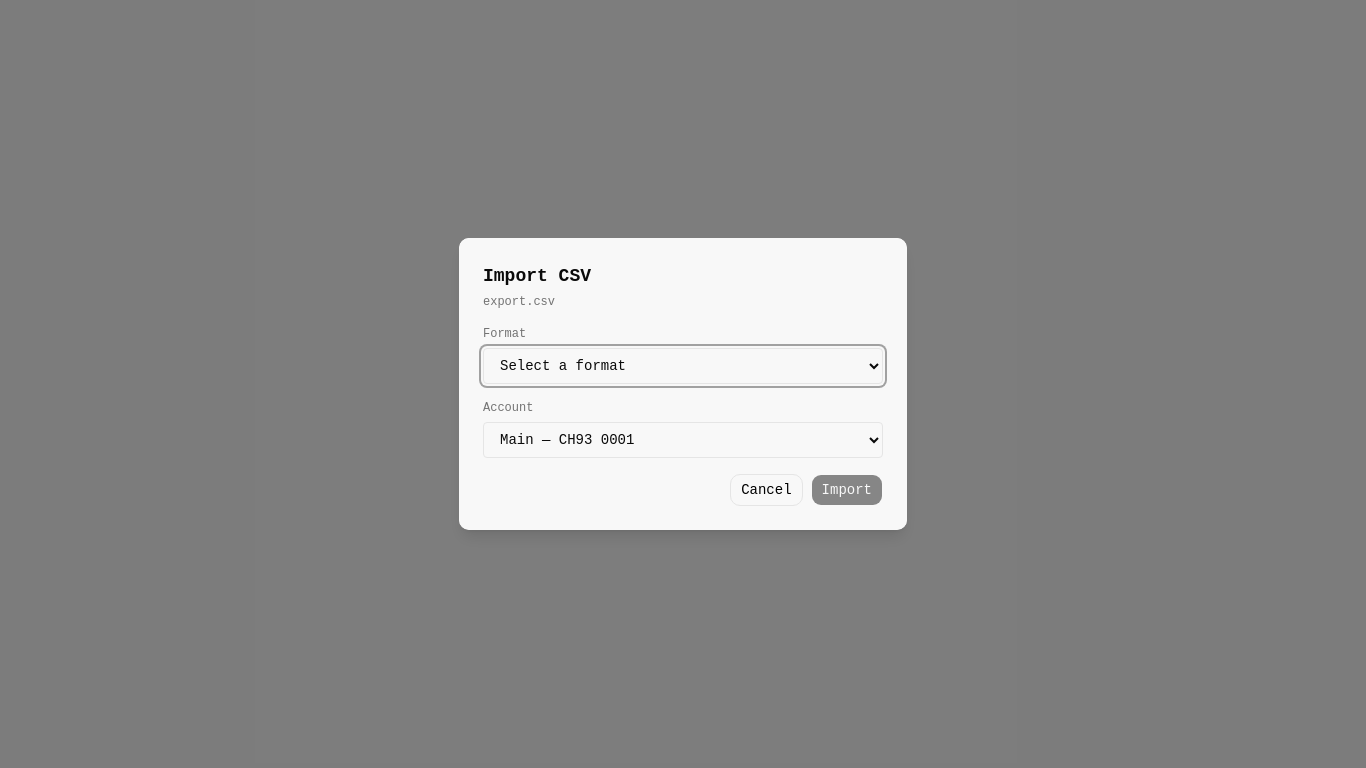
Test: custom mapping › previews a negative amount for a debit/credit split mapping
Select "Custom mapping" in the dropdown named "Format" at (683, 366), box [483,348,883,384]
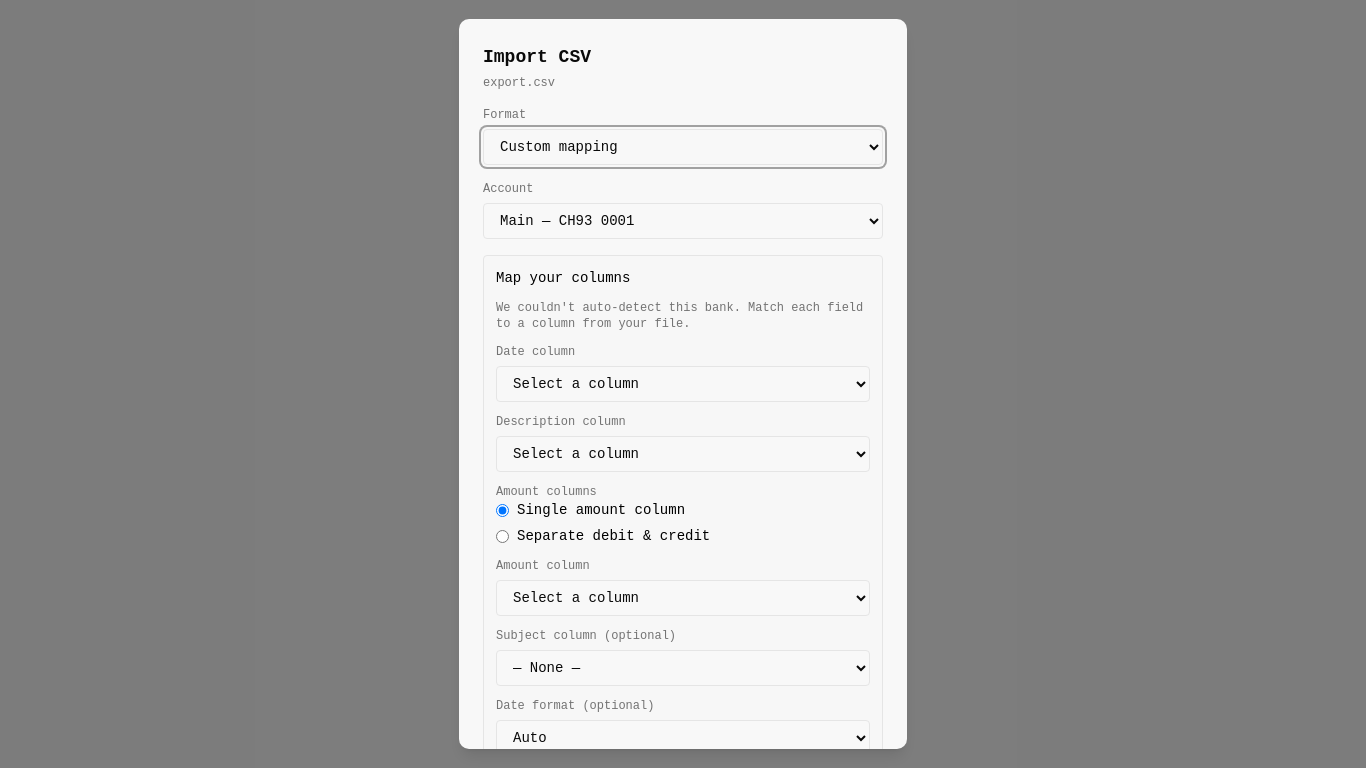
Click the radio button labelled "Separate debit & credit" at (502, 536), box [496,530,509,542]
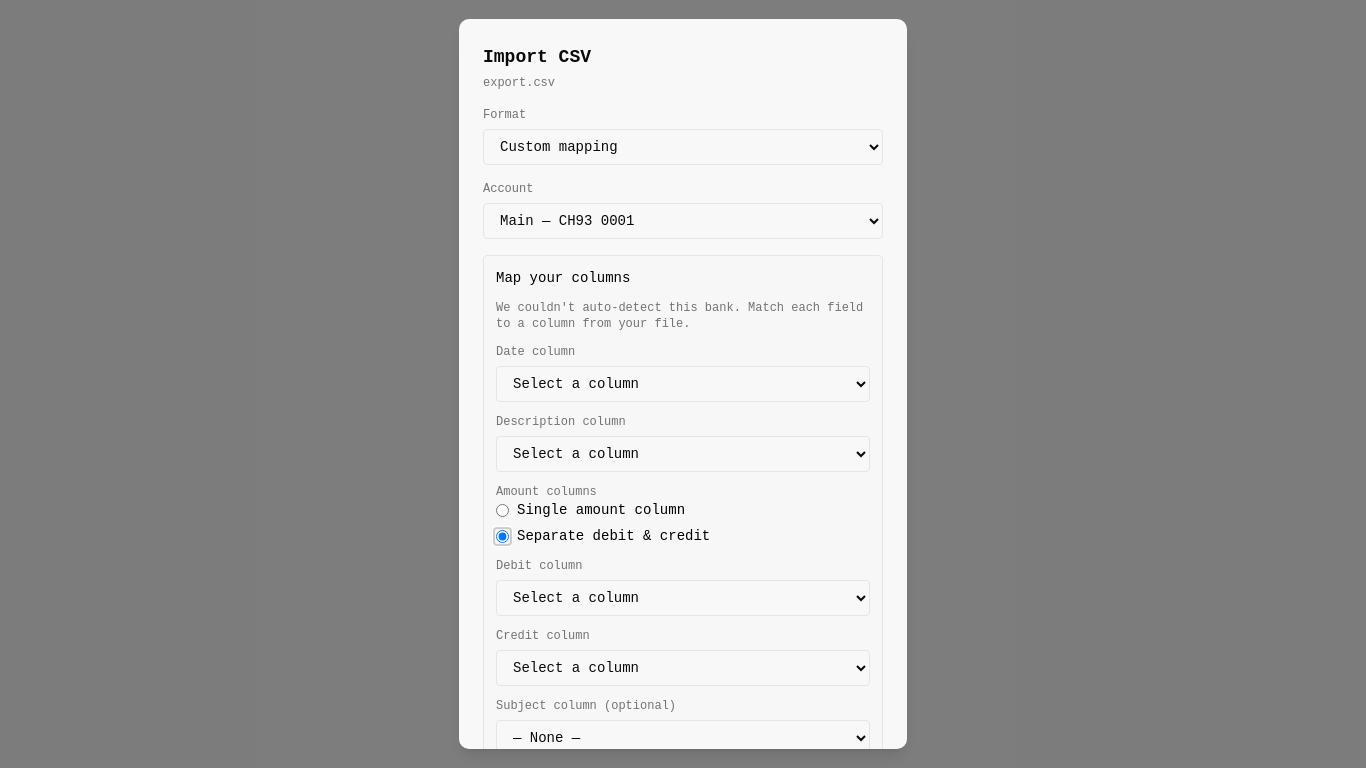
Select "Datum" in the dropdown named "Date column" at (683, 384), box [496,366,870,402]
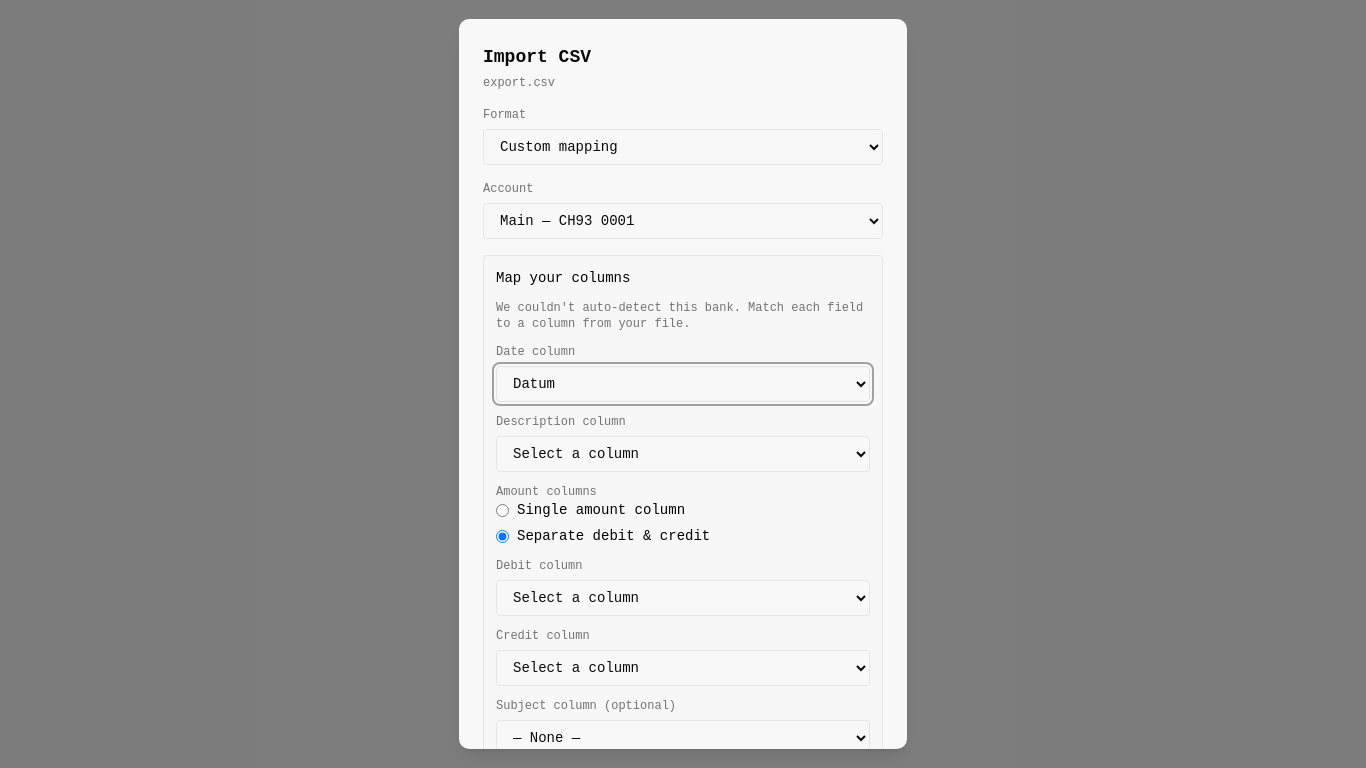
Select "Text" in the dropdown named "Description column" at (683, 454), box [496,436,870,472]
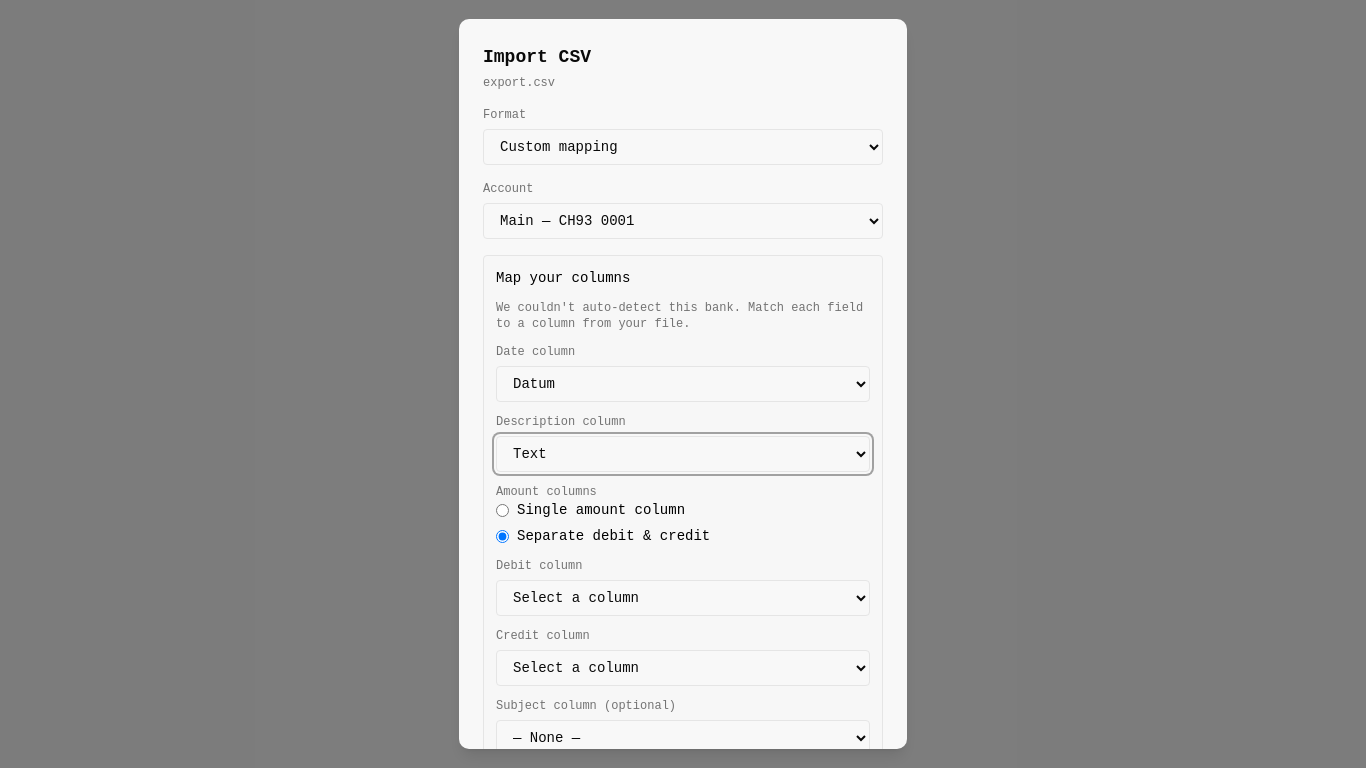
Select "Soll" in the dropdown named "Debit column" at (683, 598), box [496,580,870,616]
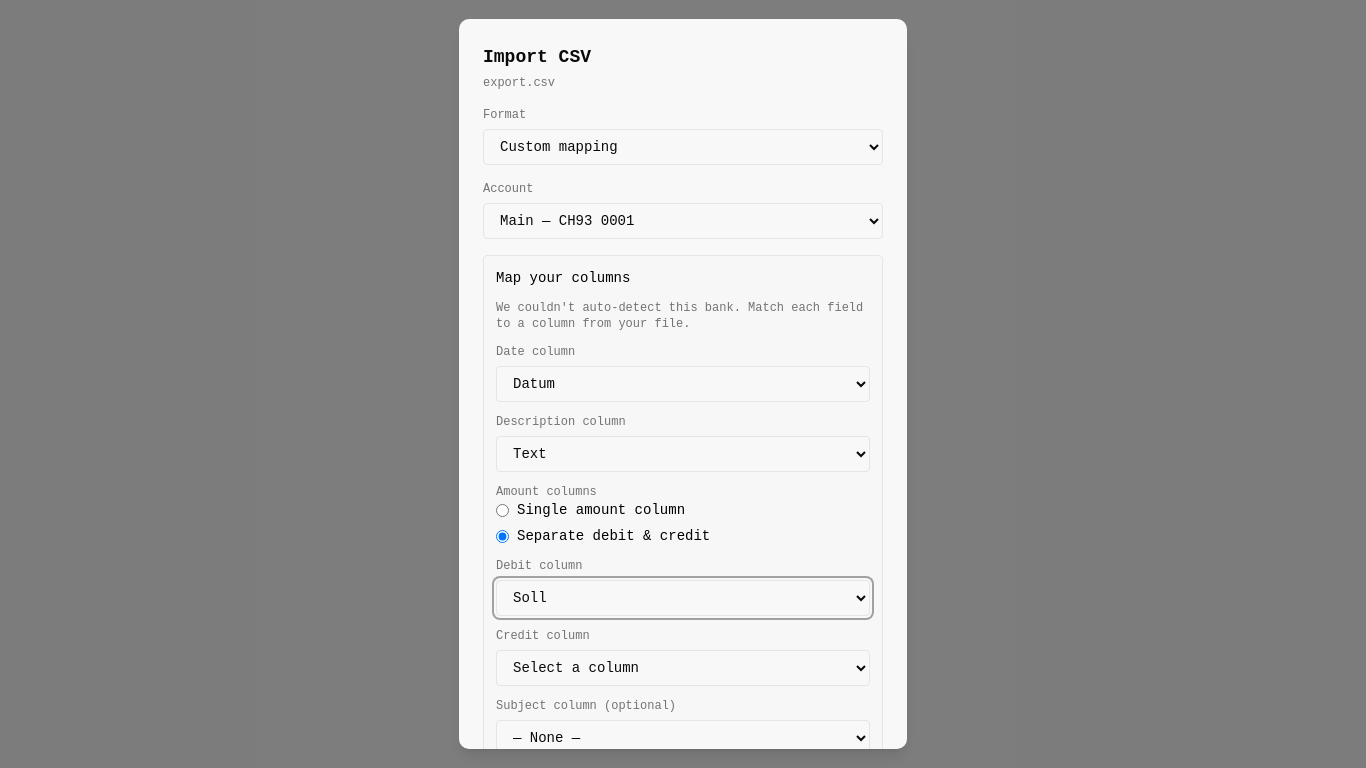
Select "Haben" in the dropdown named "Credit column" at (683, 668), box [496,650,870,686]
(page scrolled)
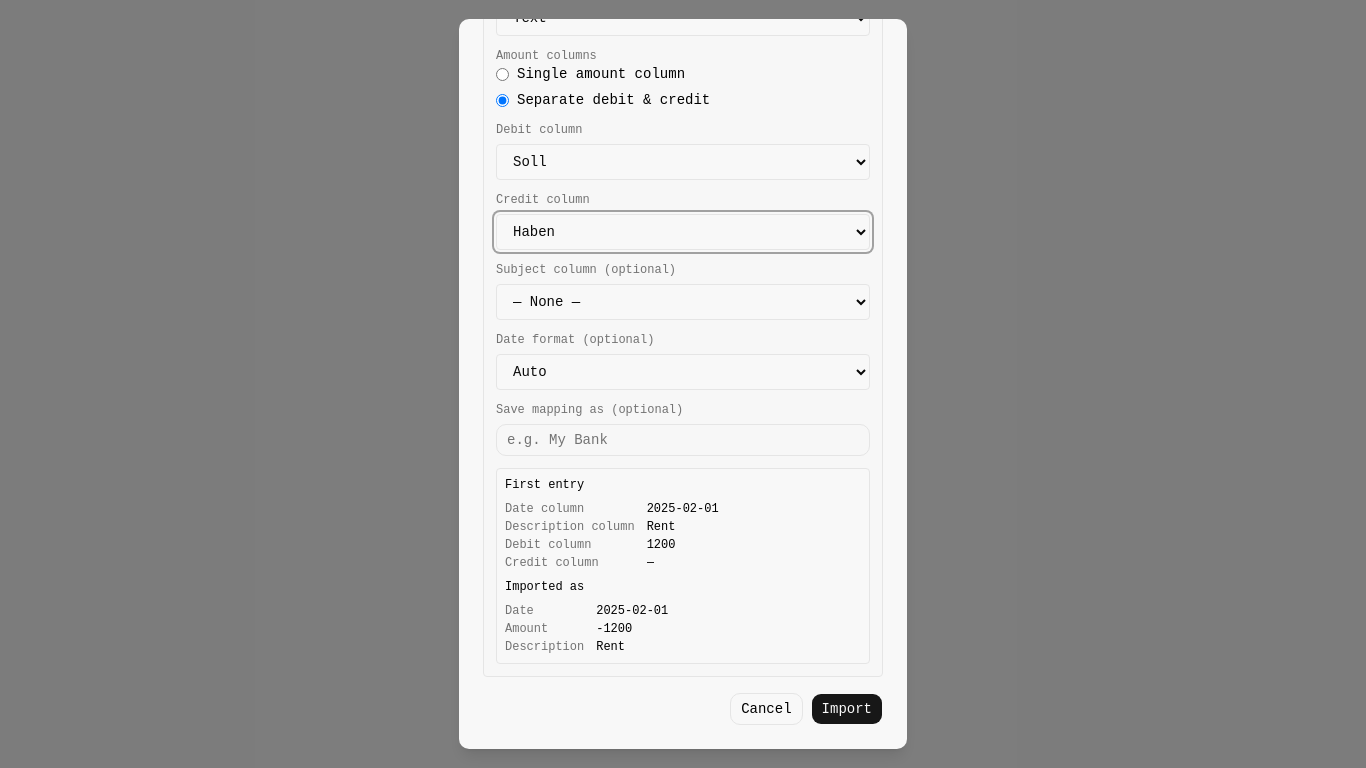
Expected: the text "Imported as" is shown, [505,580,584,594]
Expected: the text "-1200" is shown, [596,622,632,636]
